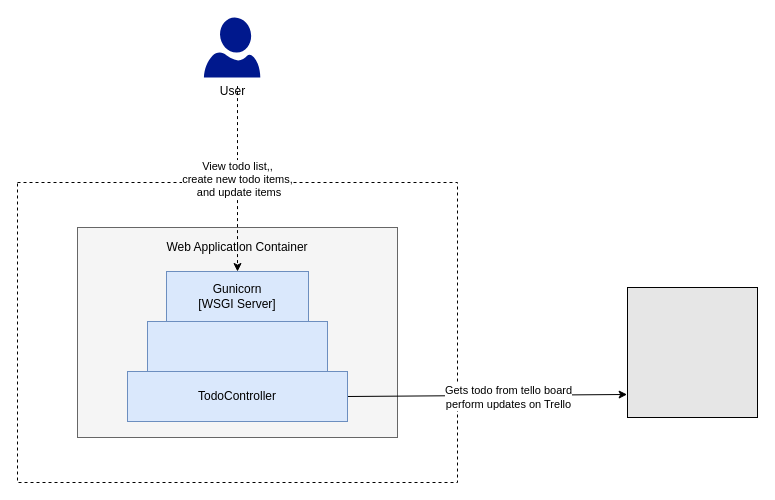
This 775x500 diagram has some shape labels left out. Each missing label, with the centre of its shape:
Trello System [Sofware System] The 3rd party system to create store ToDo cards: point (692, 352)
Web Application [Python Flask]: point (237, 346)
